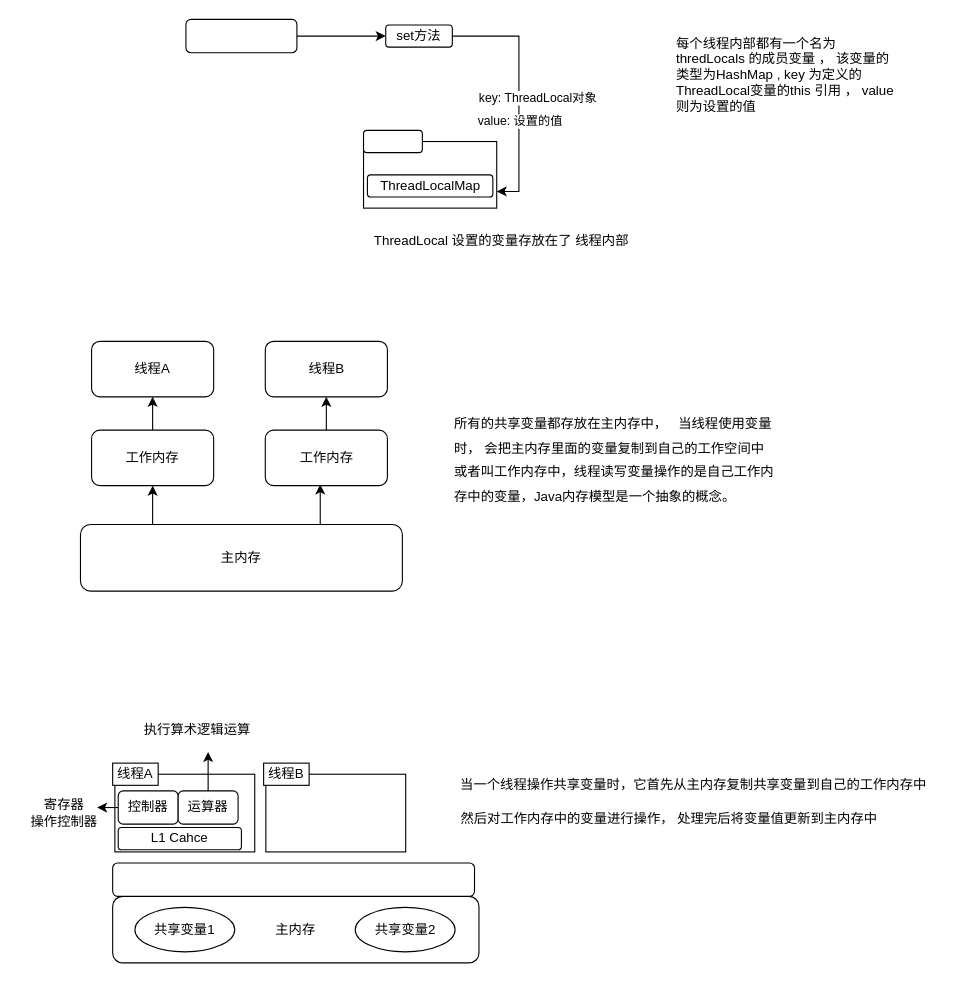
Image size: 956x982. Some labels were removed from this diagram. Each missing label, with the centre of its shape:
L2 Cache: (293,879)
Thread: (392,141)
ThreadLocal: (241,35)
